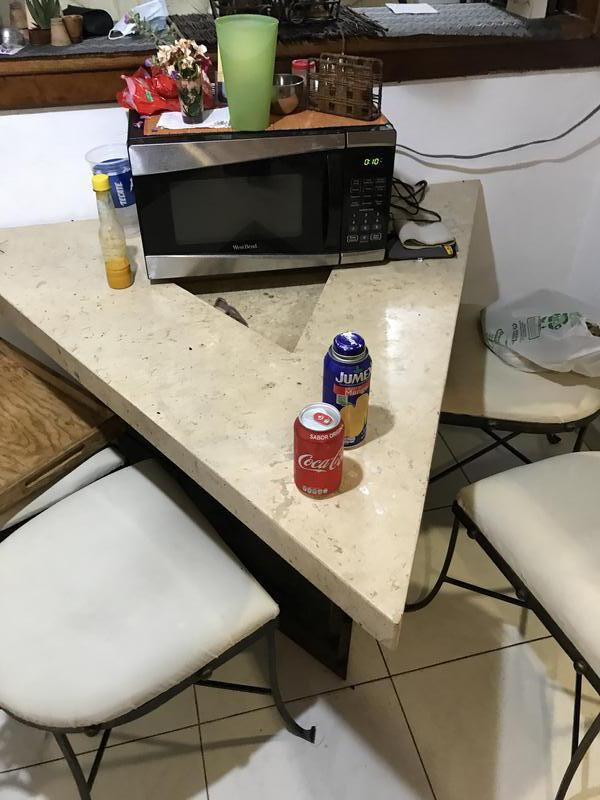coca_cola: (296, 405, 344, 497)
jugo_jumex: (325, 334, 371, 447)
